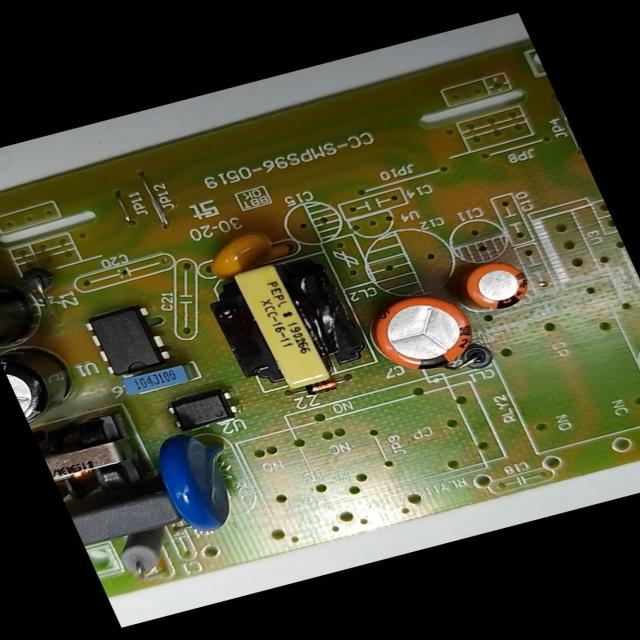Cap1: (362, 286, 487, 378)
Cap2: (456, 255, 540, 316)
Cap3: (0, 338, 89, 426)
Cap4: (0, 260, 56, 351)
MOSFET: (83, 301, 177, 379)
Mov: (144, 422, 264, 538)
Resistor: (109, 523, 181, 580)
Transformer: (196, 248, 382, 403), (32, 407, 152, 504)
